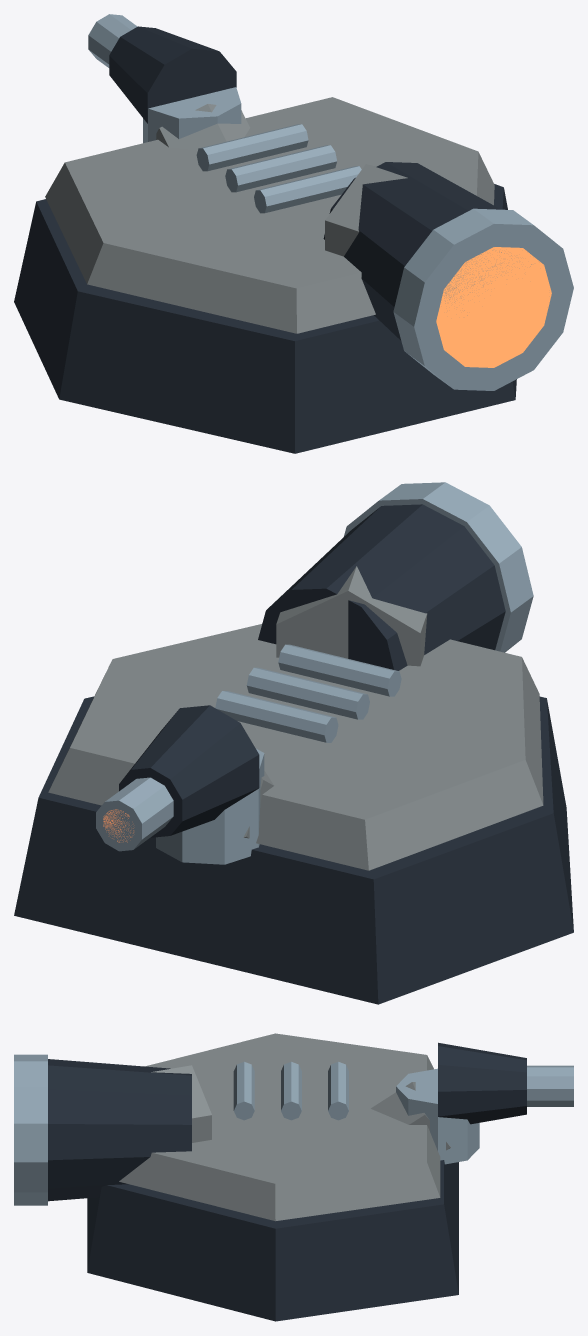
File: c3_miniasteroid.glb
The picture shows the model from 3 angles, top to bottom: view 1: azimuth 30°, elevation 25°; view 2: azimuth 150°, elevation 25°; view 3: azimuth 270°, elevation 25°; orthographic projection. The views are drawn at different scales.
Parts seen in each view (by area): view 1: miniasteroid / Chassis, miniasteroid / Armor, miniasteroid / Titanium, miniasteroid / Energy; view 2: miniasteroid / Chassis, miniasteroid / Armor, miniasteroid / Titanium; view 3: miniasteroid / Chassis, miniasteroid / Armor, miniasteroid / Titanium.
Part boxes in pixels (x1,y1,x2,y2): miniasteroid / Chassis: (14, 26, 516, 453); miniasteroid / Armor: (45, 97, 494, 333); miniasteroid / Titanium: (88, 14, 573, 390); miniasteroid / Energy: (436, 247, 551, 367); miniasteroid / Chassis: (14, 504, 573, 1004); miniasteroid / Armor: (48, 566, 543, 870); miniasteroid / Titanium: (96, 482, 533, 864); miniasteroid / Chassis: (48, 1042, 526, 1321); miniasteroid / Armor: (119, 1033, 450, 1221); miniasteroid / Titanium: (14, 1054, 573, 1205).
Size of the model in its own units: 0.84 by 0.39 by 1.07.
